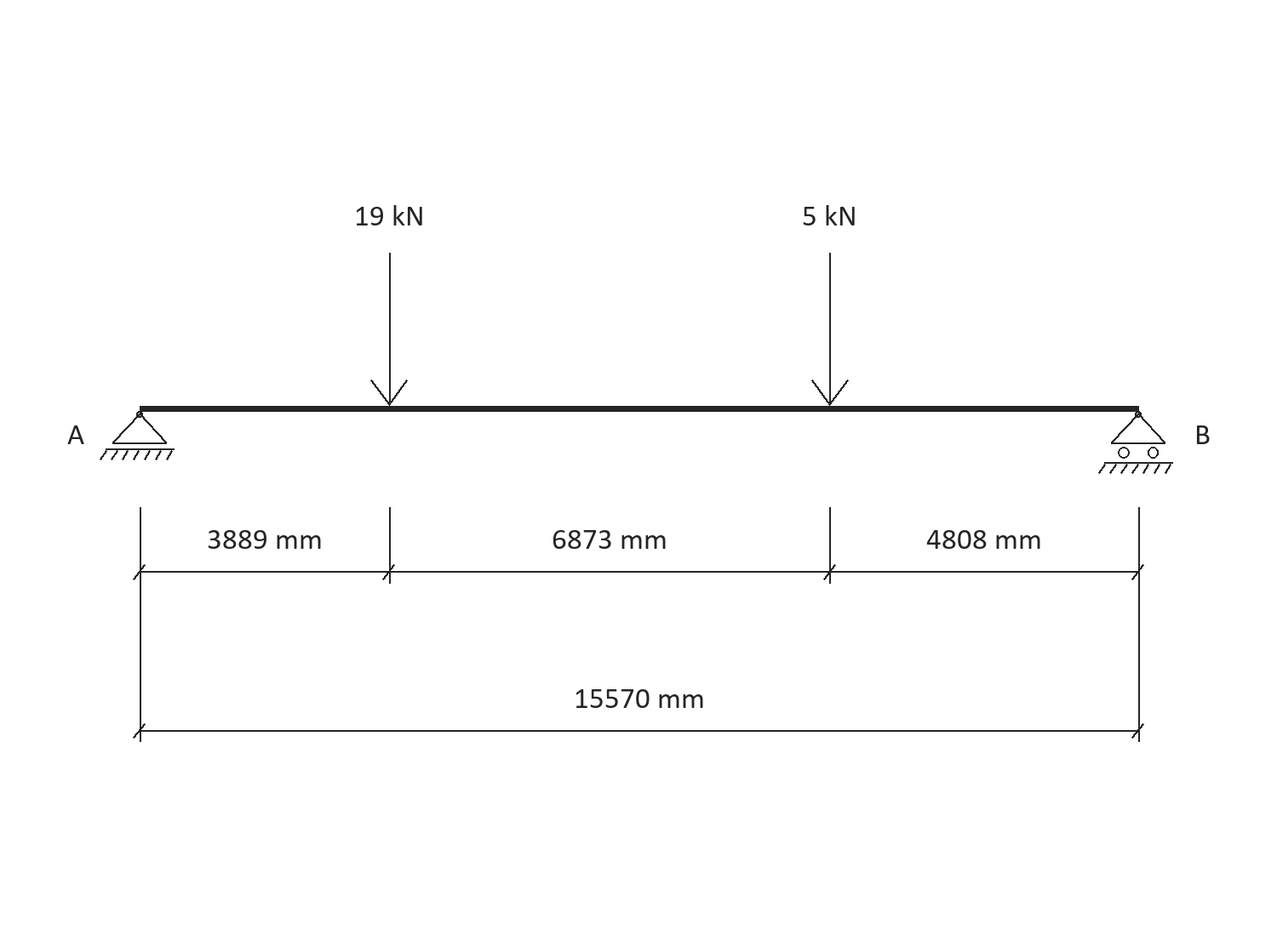pin_support: (100, 411, 175, 460)
point_load: (370, 253, 408, 406), (811, 253, 849, 406)
roller_support: (1098, 411, 1173, 474)
